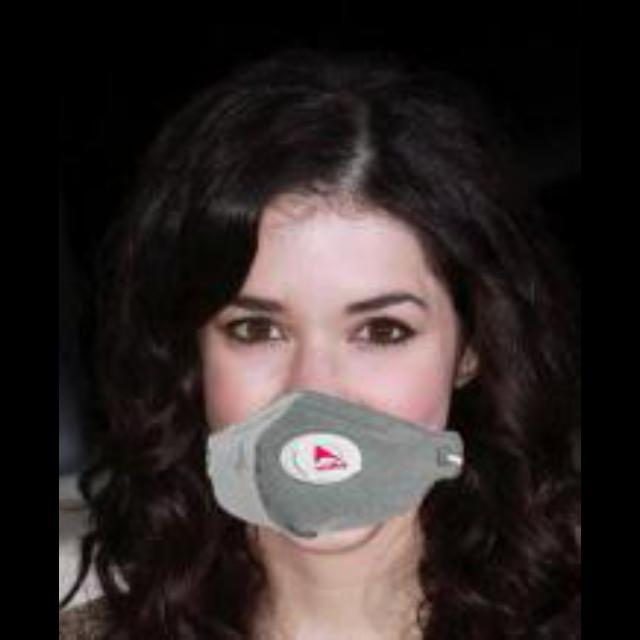suspicion: (172, 86, 483, 554)
